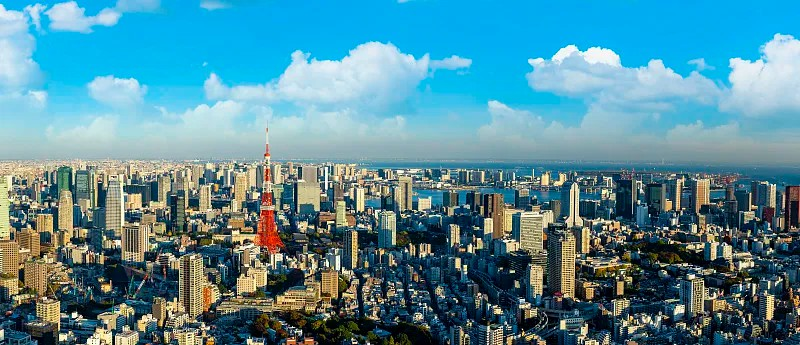Tokyo: (255, 116, 290, 258)
